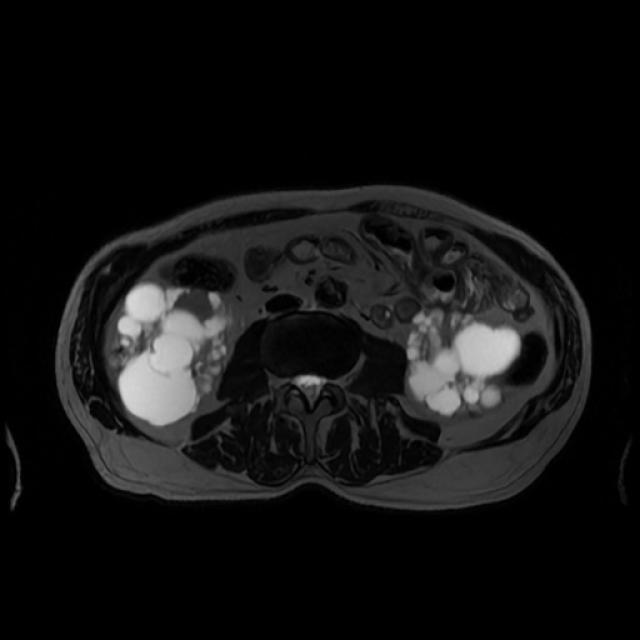sag: (114, 280, 233, 428)
sol: (405, 308, 521, 418)
